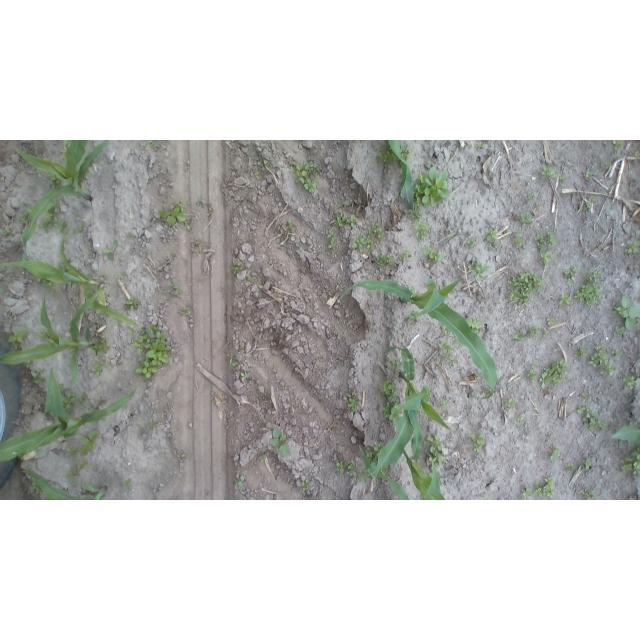Maize: (340, 280, 496, 399), (1, 238, 144, 331), (1, 368, 139, 464), (8, 141, 114, 252), (375, 346, 458, 480), (0, 291, 98, 381), (360, 446, 413, 499), (28, 472, 109, 500), (403, 449, 446, 500), (389, 140, 414, 210), (612, 426, 640, 443)
Weeds: (135, 322, 172, 378), (414, 167, 451, 207), (508, 272, 544, 303), (290, 159, 322, 193), (613, 295, 640, 332), (576, 268, 602, 306), (589, 344, 620, 375), (540, 361, 569, 392), (270, 426, 294, 460), (158, 201, 187, 228), (423, 434, 445, 467), (62, 391, 92, 412), (582, 407, 605, 432), (469, 258, 492, 283), (621, 447, 640, 474), (8, 331, 31, 352), (104, 236, 121, 263), (80, 430, 99, 454), (351, 237, 377, 254), (384, 400, 401, 424), (536, 479, 557, 498), (368, 221, 387, 242), (335, 459, 356, 477), (422, 246, 443, 264), (512, 327, 539, 341), (535, 232, 557, 248), (335, 213, 360, 227), (373, 254, 395, 269), (414, 223, 432, 241), (93, 337, 109, 356), (381, 147, 396, 167), (471, 432, 486, 452), (563, 266, 579, 284), (365, 442, 383, 458), (43, 215, 58, 234), (380, 380, 396, 397), (405, 311, 421, 328), (347, 394, 362, 412), (123, 297, 141, 312), (439, 338, 455, 354), (540, 164, 556, 180), (625, 239, 640, 255), (466, 317, 482, 331), (438, 397, 452, 412), (68, 469, 83, 483), (390, 358, 403, 374), (550, 446, 562, 463), (92, 361, 105, 376), (540, 250, 552, 266), (620, 375, 636, 387), (50, 175, 63, 189), (485, 228, 499, 241), (560, 293, 574, 306), (234, 478, 246, 493), (399, 250, 414, 262), (581, 487, 596, 499), (575, 346, 590, 358), (19, 209, 30, 225), (519, 212, 535, 223), (328, 229, 337, 248), (514, 230, 524, 247), (519, 487, 533, 499), (407, 209, 422, 220), (227, 358, 239, 371), (584, 196, 597, 208), (504, 397, 517, 409), (401, 145, 411, 160), (613, 140, 628, 150), (66, 446, 77, 459), (48, 204, 61, 215), (565, 462, 578, 473), (145, 422, 160, 431), (76, 458, 89, 468), (287, 218, 297, 231), (3, 227, 14, 238), (584, 167, 594, 179), (258, 453, 267, 466), (170, 283, 179, 296), (517, 413, 526, 426), (301, 482, 311, 493), (232, 262, 242, 273), (442, 326, 453, 336), (466, 237, 477, 247), (59, 220, 67, 233), (77, 222, 86, 233), (247, 275, 258, 284), (361, 471, 370, 482), (605, 158, 613, 170), (529, 192, 536, 205), (527, 371, 537, 380), (35, 373, 44, 383), (450, 357, 460, 366), (240, 372, 248, 383), (582, 393, 591, 402), (125, 479, 134, 488), (545, 432, 555, 440), (196, 199, 204, 209), (585, 459, 591, 472), (615, 327, 626, 334), (546, 318, 555, 326), (180, 308, 191, 314), (121, 274, 130, 281), (39, 328, 45, 337), (544, 331, 551, 338), (576, 407, 584, 413), (476, 142, 485, 147), (561, 176, 567, 183), (636, 151, 640, 161), (531, 363, 537, 368), (72, 229, 76, 234), (147, 141, 153, 144)
